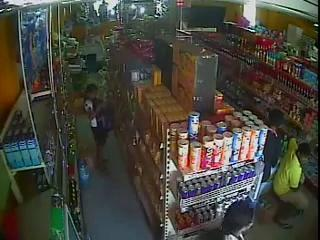shoplifting: (83, 84, 113, 172)
